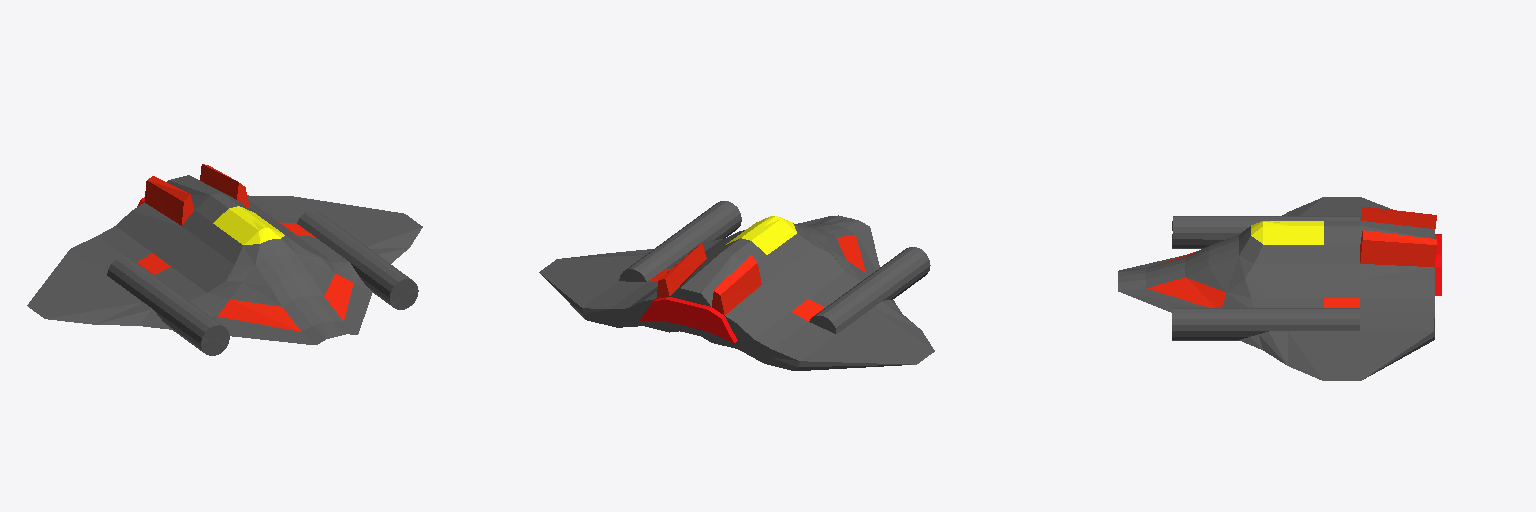
Rendered from EnemyShip2.obj.
3 views of the same model, side by side, from view 1: azimuth 30°, elevation 25°; view 2: azimuth 150°, elevation 25°; view 3: azimuth 270°, elevation 25° (orthographic).
Visible parts, largest first — view 1: Cube; view 2: Cube; view 3: Cube.
Boxes of the visible parts, <box> form: Cube: <box>27,164,422,355</box>; Cube: <box>539,201,934,370</box>; Cube: <box>1118,197,1441,380</box>.
Bounding box in the file's own units: 9 × 1.71 × 6.69.